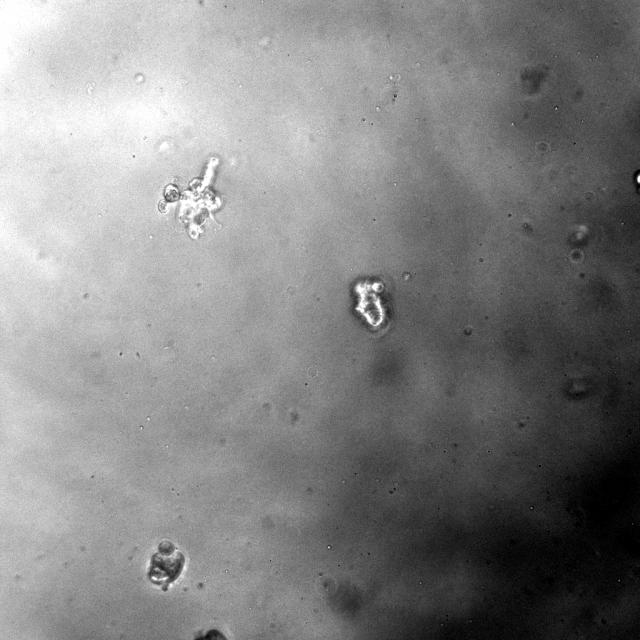organoid: (158, 158, 222, 239), (351, 276, 392, 333), (147, 540, 185, 590), (194, 627, 227, 639)
